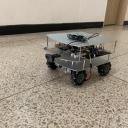cart: (44, 32, 119, 86)
